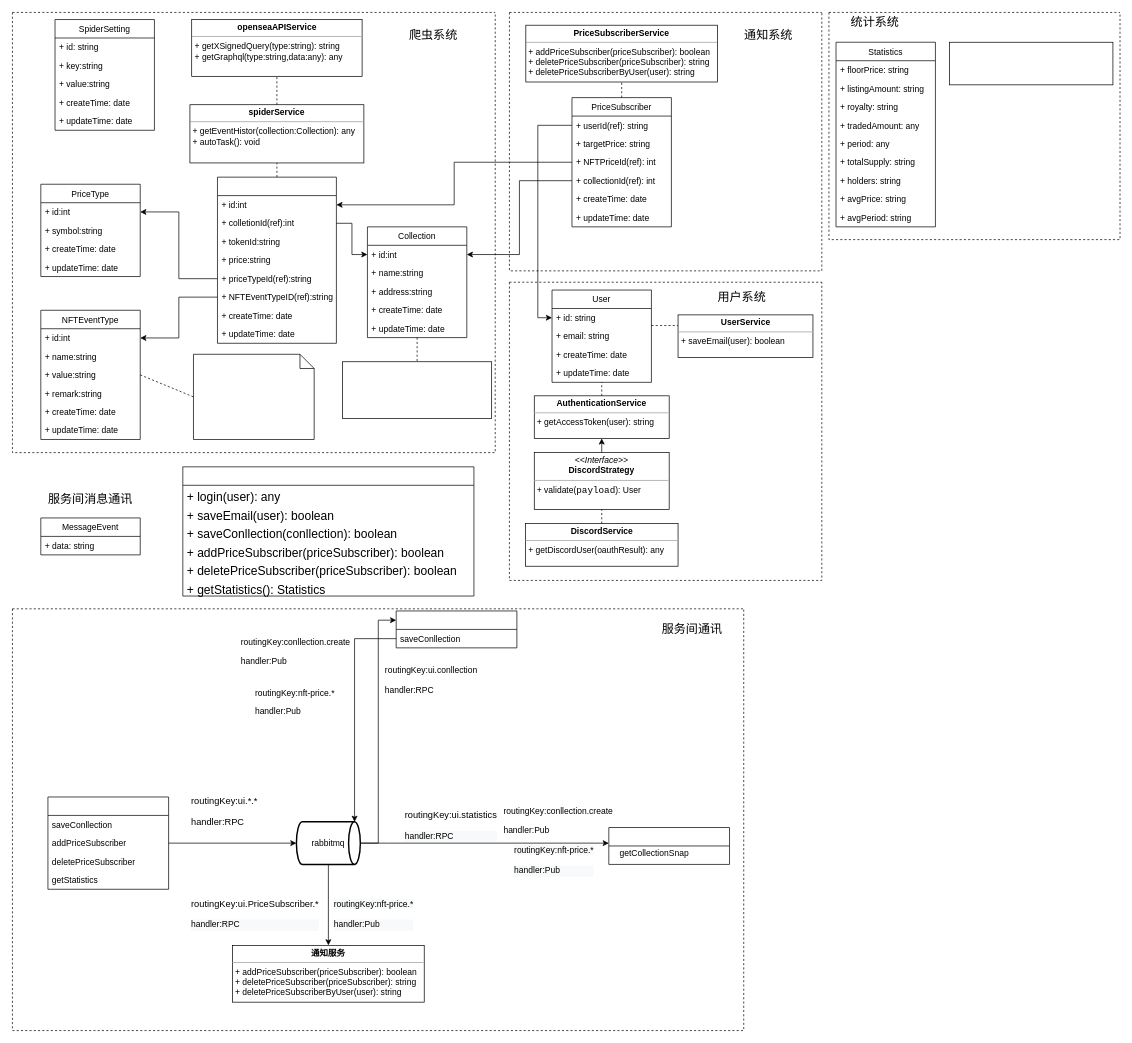
Image size: 1132x1043. Some labels were removed from this diagram. Here are the shapes that lost their labels. From the top down, the box of each, then its label:
(949, 42, 1113, 85): Statistics Service + getCollectionSnap(collection): Statistics
(217, 176, 336, 343): NFTPrice
(193, 354, 314, 439): 存在值 CREATED：挂单 SUCCESSFUL：成功卖出
(342, 361, 492, 419): CollectionService + saveCollection(collection): boolean
(182, 466, 474, 596): UIController
(395, 610, 517, 648): 爬虫服务
(47, 796, 169, 889): UI服务
(608, 827, 730, 864): 统计服务
